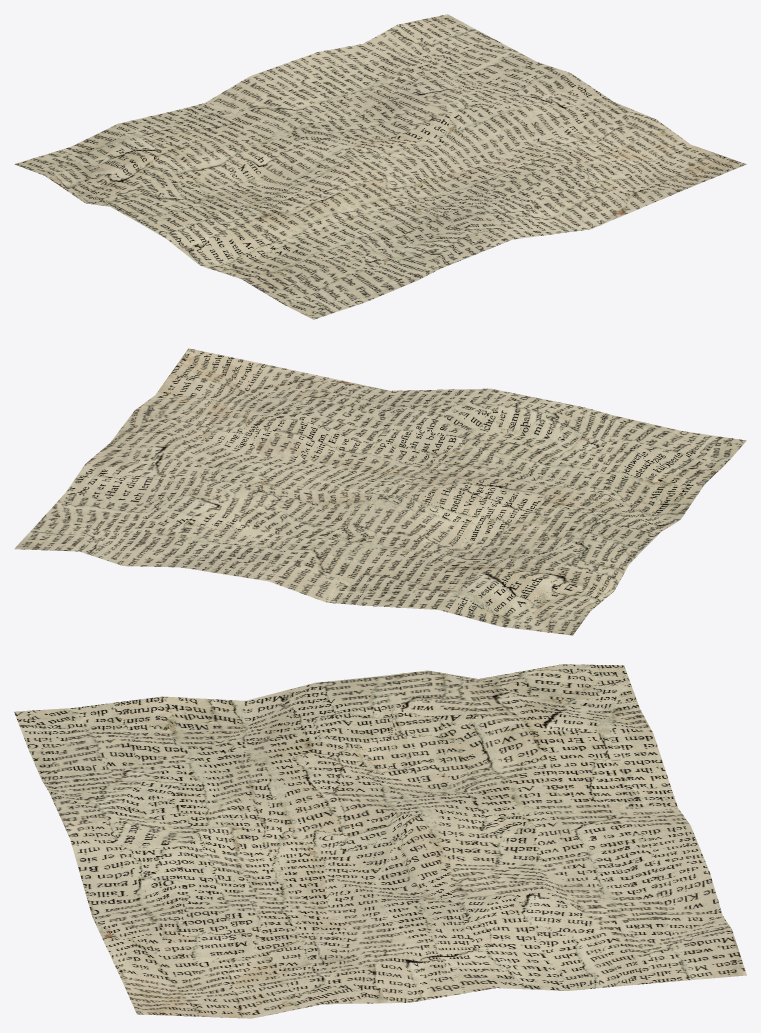
Rendered from News1.glb.
The picture shows the model from 3 angles, top to bottom: view 1: azimuth 30°, elevation 25°; view 2: azimuth 150°, elevation 25°; view 3: azimuth 270°, elevation 25°; orthographic projection. The views are drawn at different scales.
Parts seen in each view (by area): view 1: Plane.001; view 2: Plane.001; view 3: Plane.001.
Boxes of the visible parts, x1=… form: Plane.001: x1=14, y1=14, x2=746, y2=319; Plane.001: x1=14, y1=348, x2=746, y2=635; Plane.001: x1=14, y1=664, x2=746, y2=1018.
Size of what is drawn, in the model's own units: 1.34 by 0.0523 by 1.18.
1 material, 1 textured.
